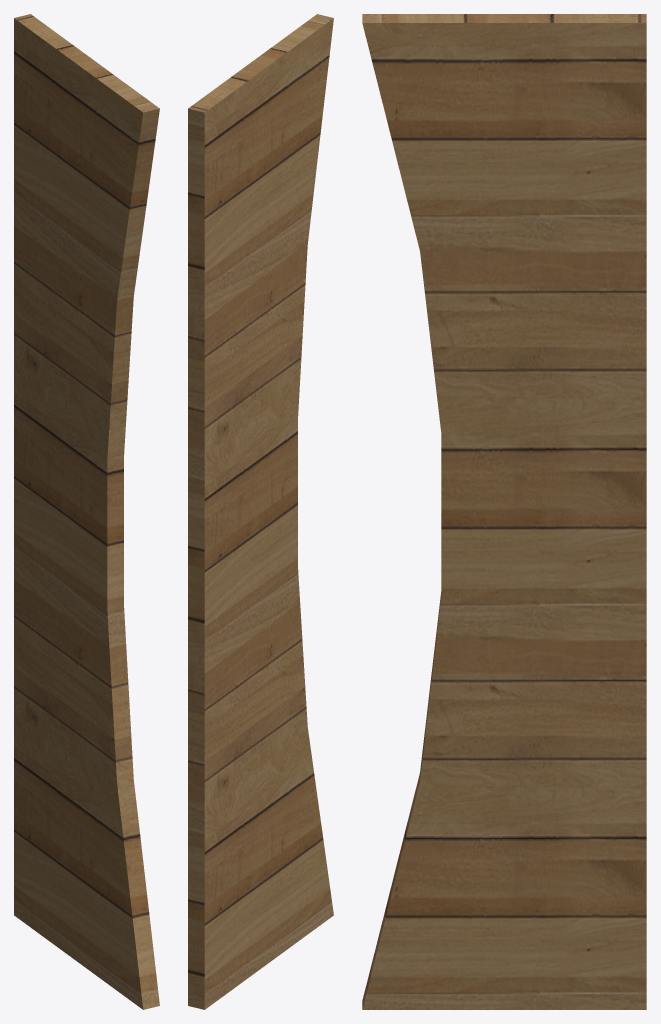
The model's file is nt_concrete_fence_192_LOD1.obj.
3 views of the same model, side by side, from view 1: azimuth 30°, elevation 25°; view 2: azimuth 150°, elevation 25°; view 3: azimuth 270°, elevation 25° (orthographic). The views are drawn at different scales.
Parts seen in each view (by area): view 1: nt_wood_fence; view 2: nt_wood_fence; view 3: nt_wood_fence.
Boxes of the visible parts, box(x1,y1,x2,y2) form: nt_wood_fence: box(14, 14, 159, 1009); nt_wood_fence: box(188, 14, 333, 1009); nt_wood_fence: box(362, 14, 646, 1009).
Size of the model in its own units: 9.51 by 487 by 127.
